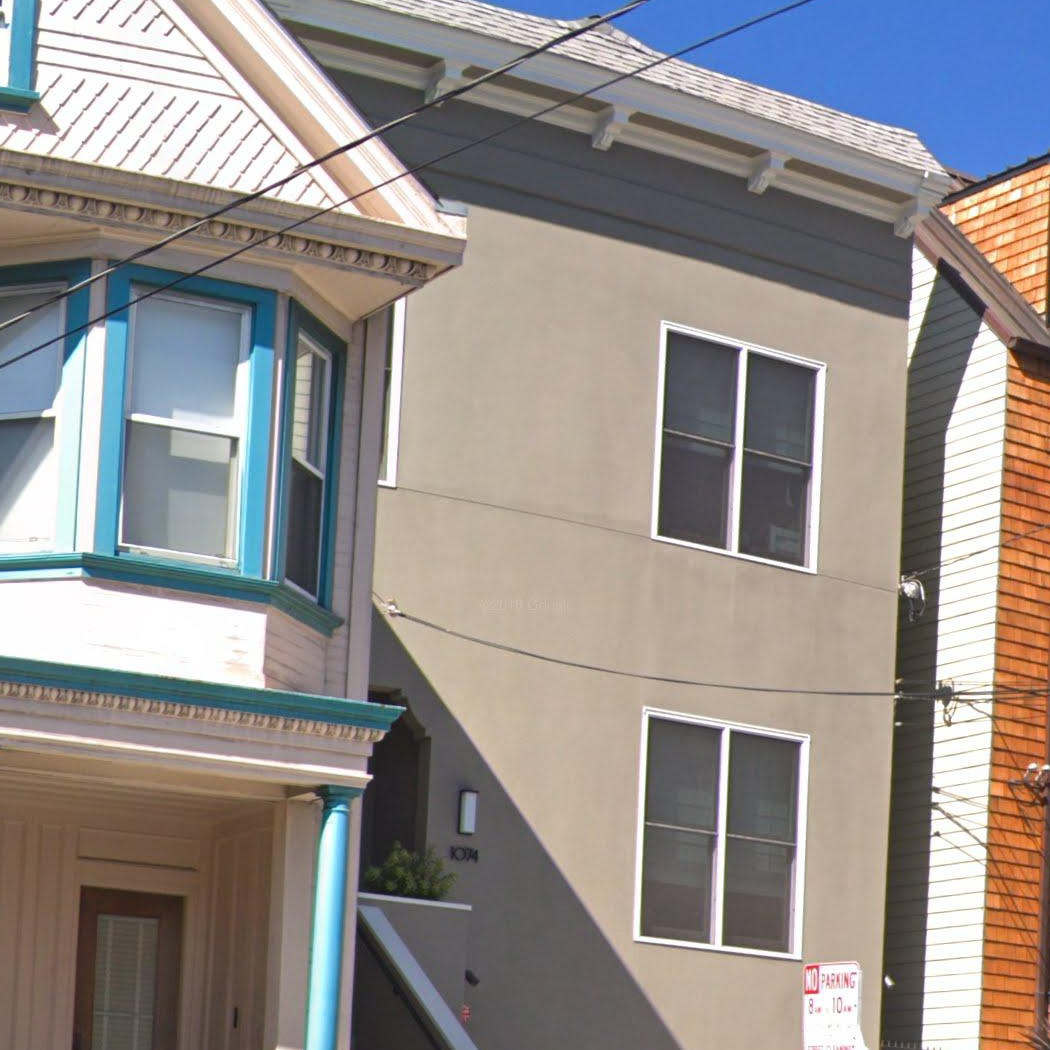No Parking: (802, 961, 865, 1050)
